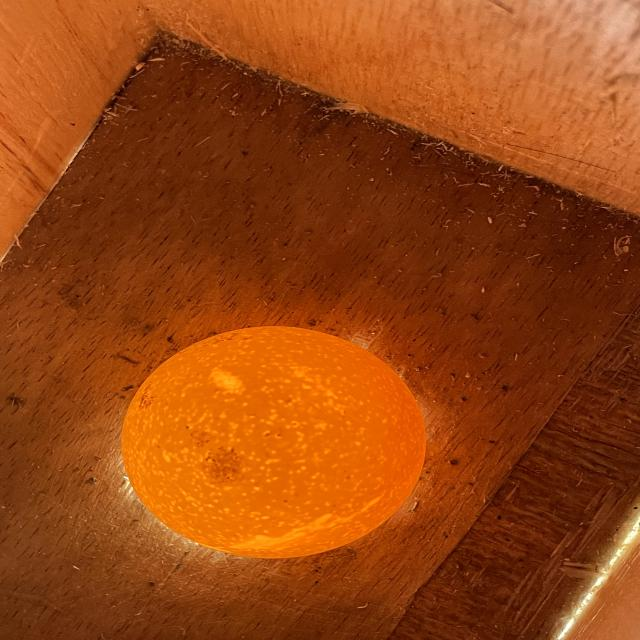infertile: (122, 326, 425, 558)
